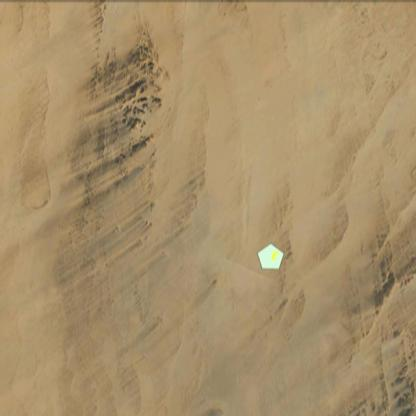E: (270, 250, 281, 262)
pentagon: (258, 244, 284, 270)
